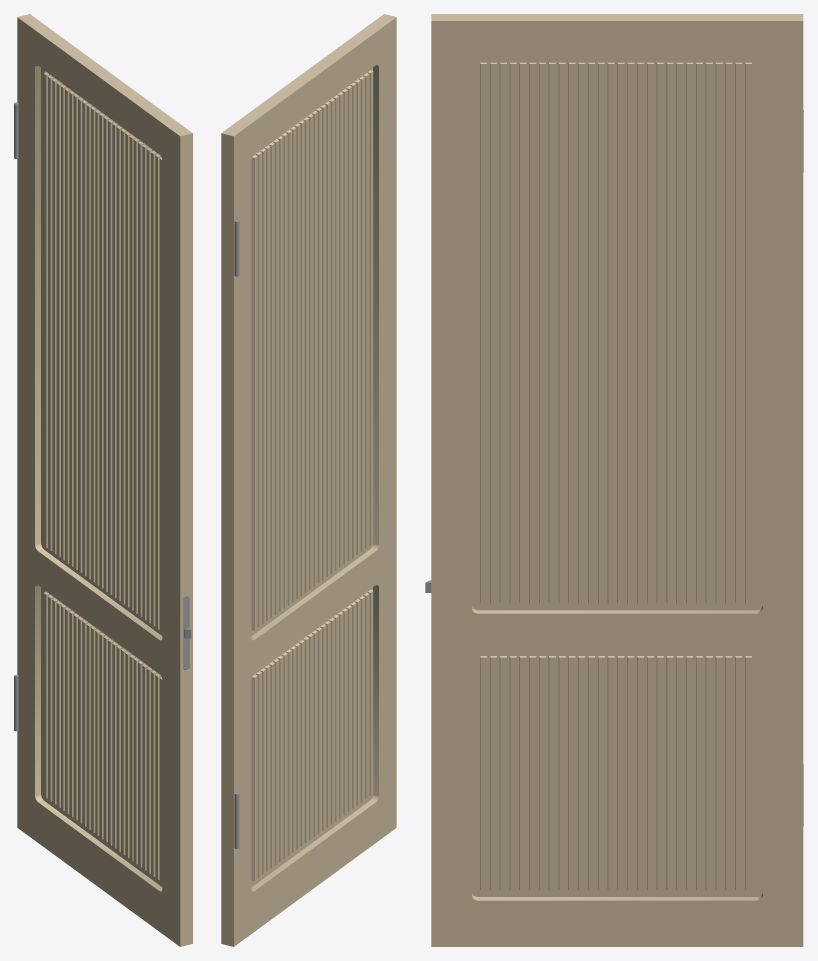
The model's file is 72_ROTTERDAM_Door.glb.
The picture shows the model from 3 angles, left to right: view 1: azimuth 30°, elevation 25°; view 2: azimuth 150°, elevation 25°; view 3: azimuth 270°, elevation 25°; orthographic projection. The views are drawn at different scales.
Parts seen in each view (by area): view 1: 72_ROTTERDAM_Door; view 2: 72_ROTTERDAM_Door; view 3: 72_ROTTERDAM_Door.
Part boxes in pixels (bbox=[...]): 72_ROTTERDAM_Door: bbox=[14, 14, 192, 946]; 72_ROTTERDAM_Door: bbox=[221, 14, 396, 946]; 72_ROTTERDAM_Door: bbox=[425, 14, 803, 946].
Size of the model in its own units: 0.0474 by 2.2 by 0.8129.
